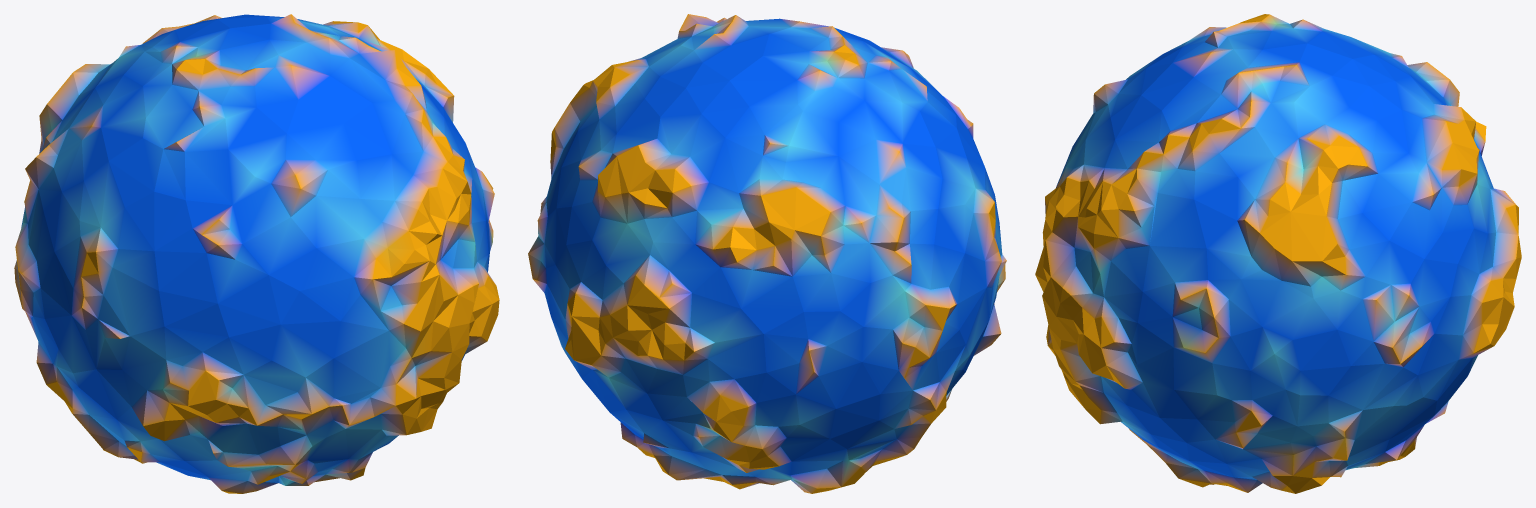
The model's file is planet_84.fbx.
3 views of the same model, side by side, from view 1: azimuth 30°, elevation 25°; view 2: azimuth 150°, elevation 25°; view 3: azimuth 270°, elevation 25° (orthographic). The views are drawn at different scales.
Visible parts, largest first — view 1: file1; view 2: file1; view 3: file1.
Boxes of the visible parts, <box> form: file1: <box>14,14,499,493</box>; file1: <box>528,14,1006,493</box>; file1: <box>1035,14,1521,493</box>.
Bounding box in the file's own units: 2.06 × 2.05 × 2.13.
